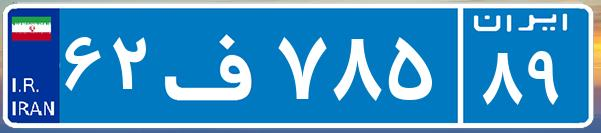2: (110, 28, 158, 105)
5: (385, 28, 445, 110)
6: (57, 26, 110, 107)
7: (273, 28, 330, 110)
8: (330, 28, 385, 110), (475, 38, 525, 113)
9: (525, 38, 570, 115)
ف: (158, 15, 273, 115)
